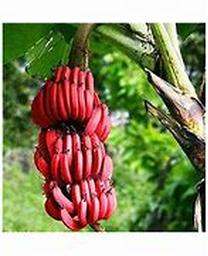banana: (28, 63, 117, 231)
